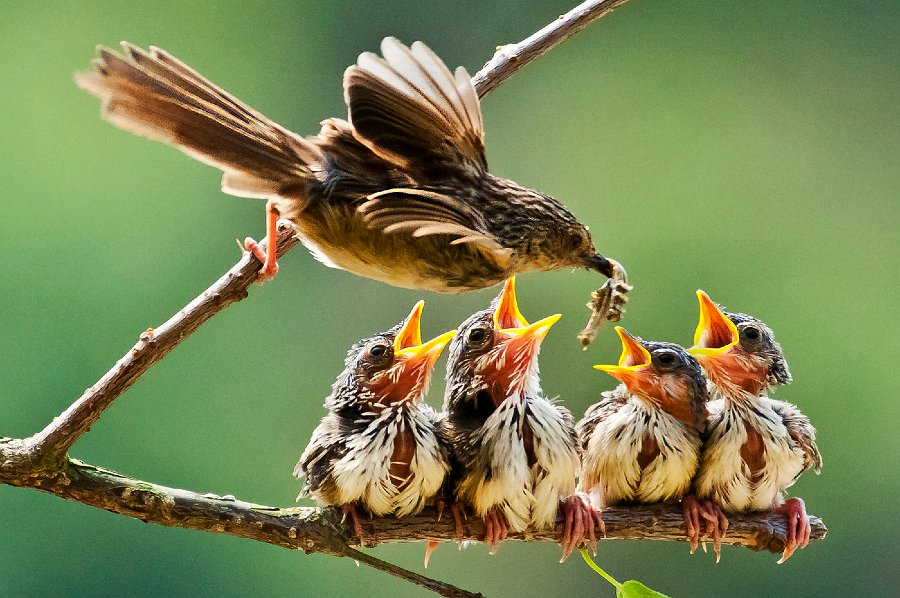bird: (54, 17, 652, 350), (277, 290, 490, 578), (671, 255, 832, 583), (427, 268, 594, 569), (555, 308, 725, 581)
